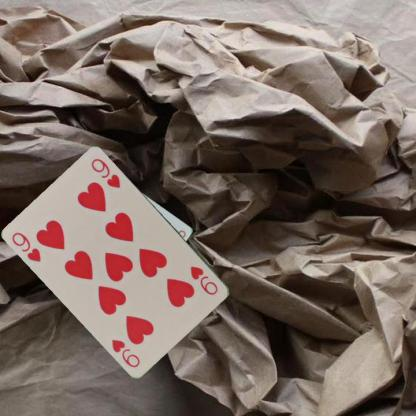9h: (9, 230, 43, 263), (188, 263, 219, 296)
